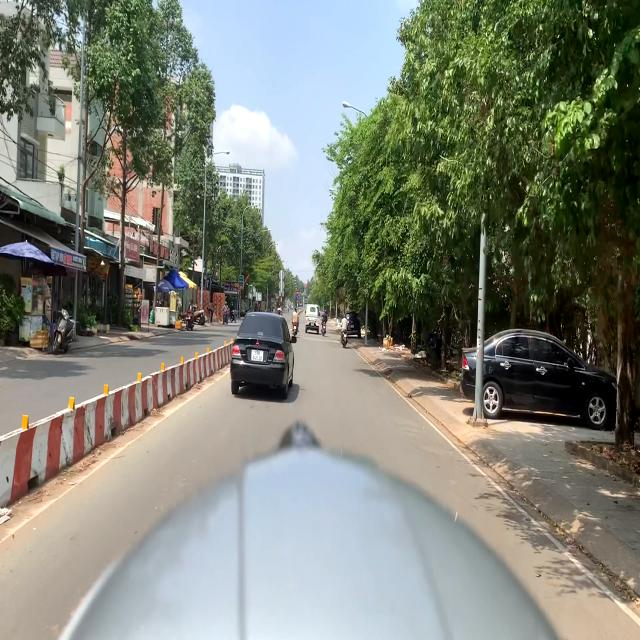P.102: (296, 290, 299, 295)
R.302a: (296, 295, 299, 300)
